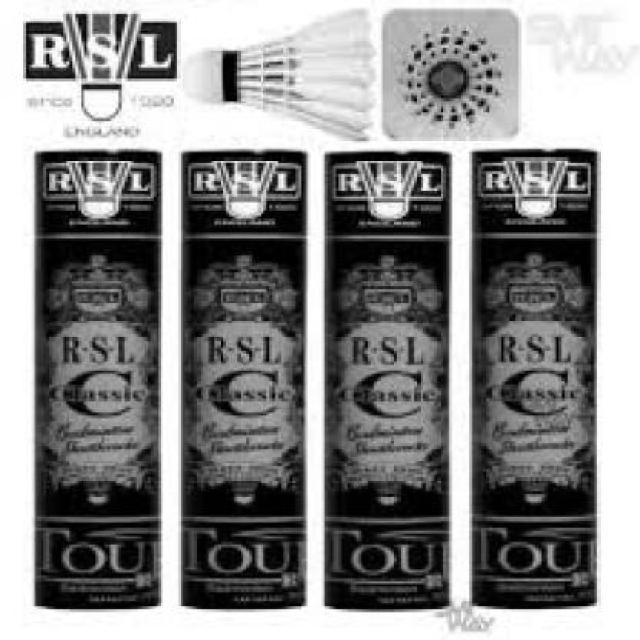Shuttlecock: (180, 8, 378, 144)
